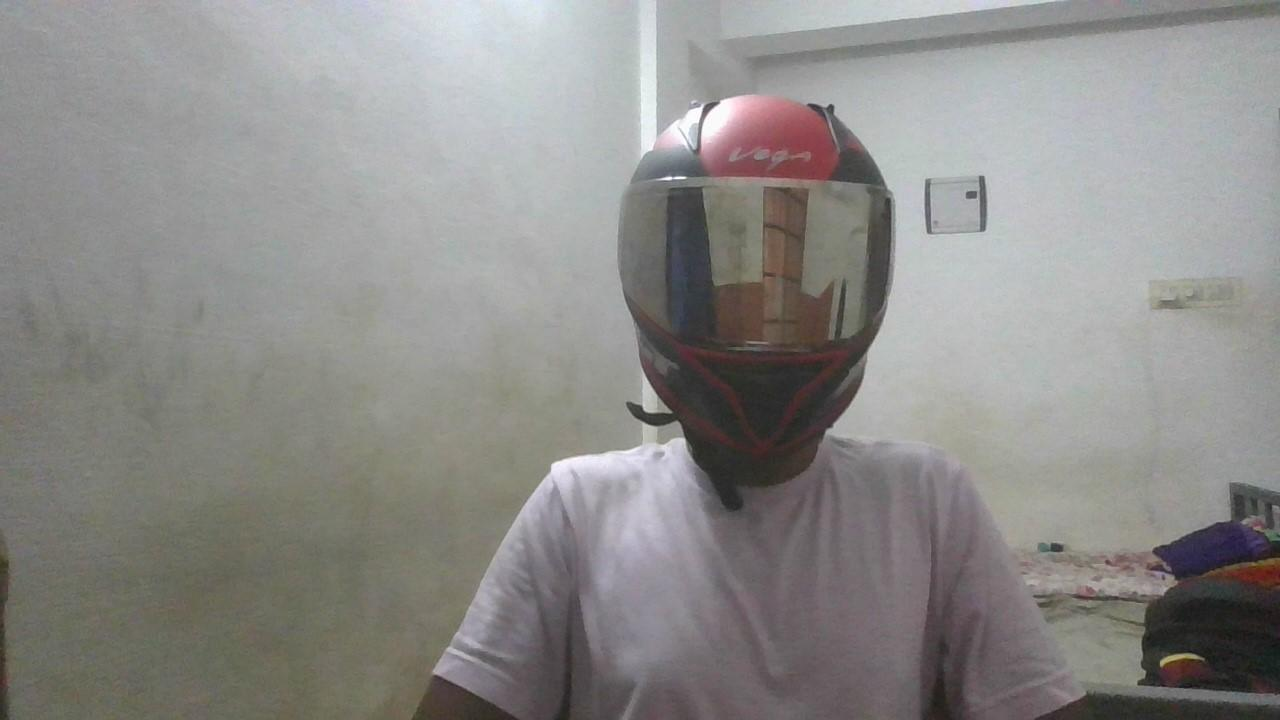helmet: (614, 92, 897, 470)
